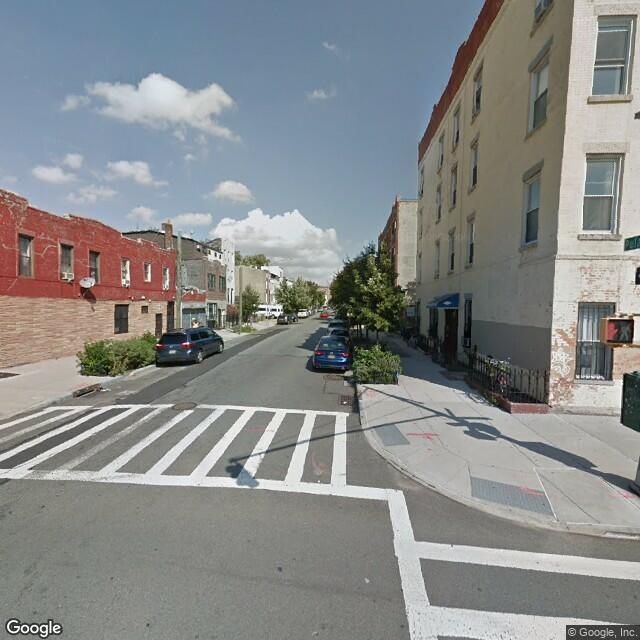litter: (363, 576, 372, 585), (102, 387, 111, 394), (343, 398, 348, 404)
